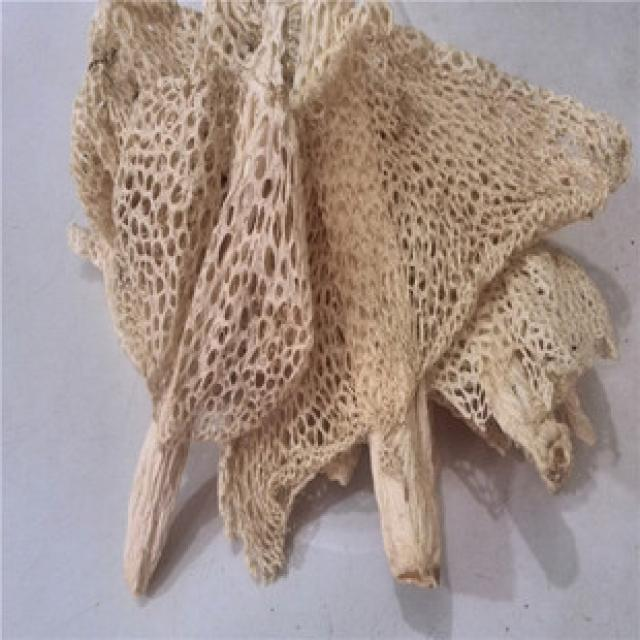Dictyophora indusiate: (68, 7, 620, 595)
